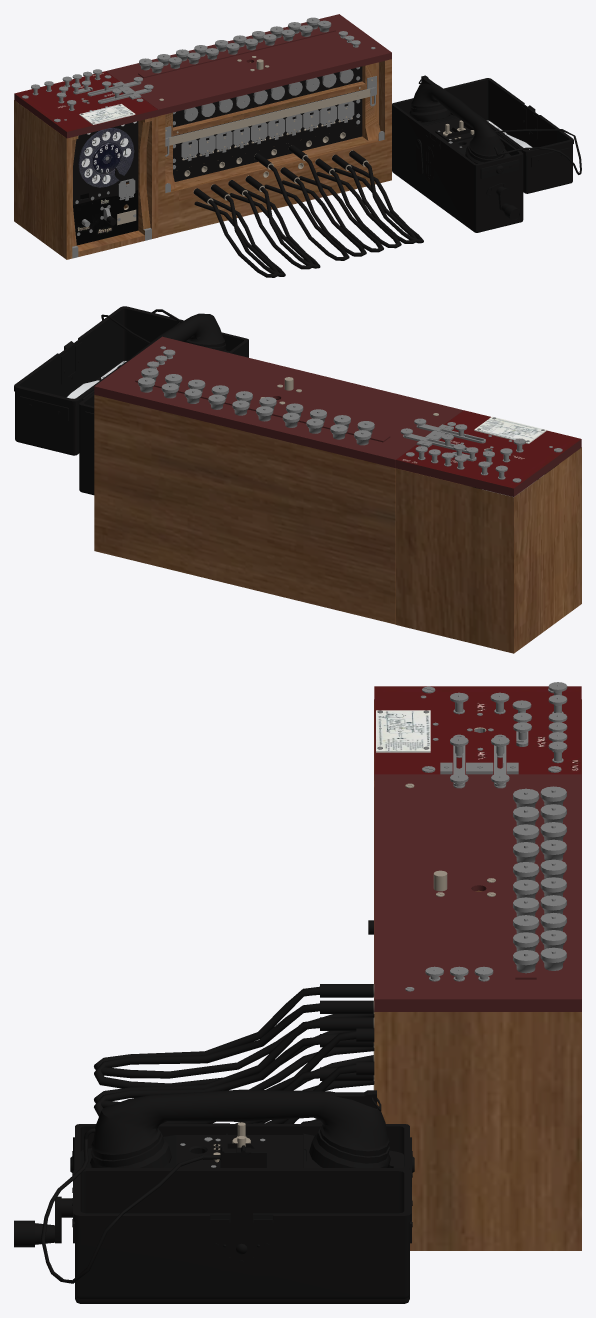
File: ww2_german_field_telephone_equipment.glb
3 renders of one model, top to bottom at view 1: azimuth 30°, elevation 25°; view 2: azimuth 150°, elevation 25°; view 3: azimuth 270°, elevation 25°, orthographic. The views are drawn at different scales.
Visible parts, largest first — view 1: polySurface90, pCube1, polySurface26, polySurface21, polySurface38, polySurface27, pCylinder38, polySurface40, polySurface7, polySurface39; view 2: polySurface90, pCube1, polySurface21, polySurface38, polySurface26, polySurface27, polySurface39; view 3: polySurface90, polySurface21, polySurface38, polySurface27, polySurface26, polySurface7.
Part boxes in pixels (box(x1,y1,x2,y2)): polySurface90: box(106, 14, 423, 277); pCube1: box(14, 100, 158, 259); polySurface26: box(392, 98, 523, 232); polySurface21: box(444, 78, 573, 193); polySurface38: box(14, 69, 158, 138); polySurface27: box(409, 75, 581, 174); pCylinder38: box(78, 127, 134, 187); polySurface40: box(75, 121, 136, 235); polySurface7: box(496, 186, 521, 221); polySurface39: box(87, 81, 150, 103); polySurface90: box(94, 336, 463, 624); pCube1: box(396, 447, 581, 653); polySurface21: box(14, 306, 183, 455); polySurface38: box(396, 410, 581, 496); polySurface26: box(79, 332, 248, 495); polySurface27: box(101, 309, 227, 370); polySurface39: box(404, 424, 485, 453); polySurface90: box(94, 773, 581, 1250); polySurface21: box(72, 1168, 412, 1298); polySurface38: box(374, 682, 581, 774); polySurface27: box(41, 1089, 390, 1283); polySurface26: box(70, 1122, 414, 1303); polySurface7: box(14, 1196, 72, 1247).
Bounding box in the file's own units: 1.53 × 0.4648 × 0.8655.
Materials: 8 (3 with a texture image).
